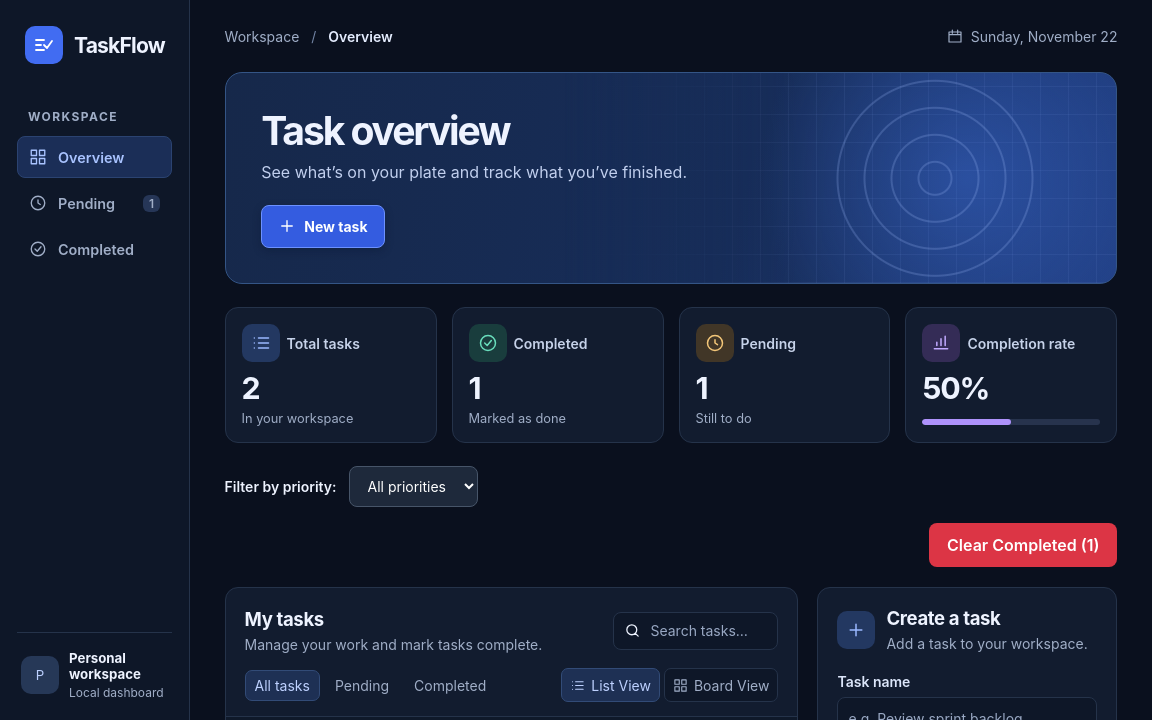
Test: TaskFlow › migrates legacy tasks to board columns without losing their fields
Click the button "Board View". click: (721, 685)
box: [664,668,778,702]
(page scrolled)
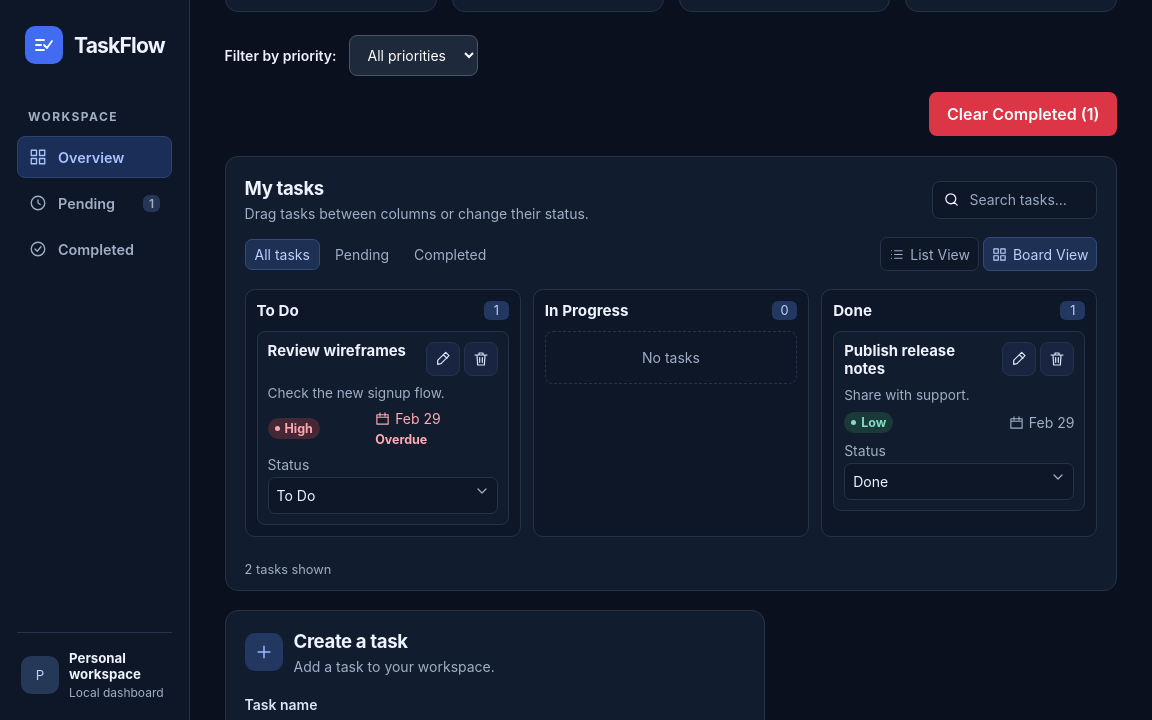
Expected: the heading "Review wireframes" is shown, [268,342,418,360]
Expected: the text "No tasks" is shown, [545,331,797,384]
